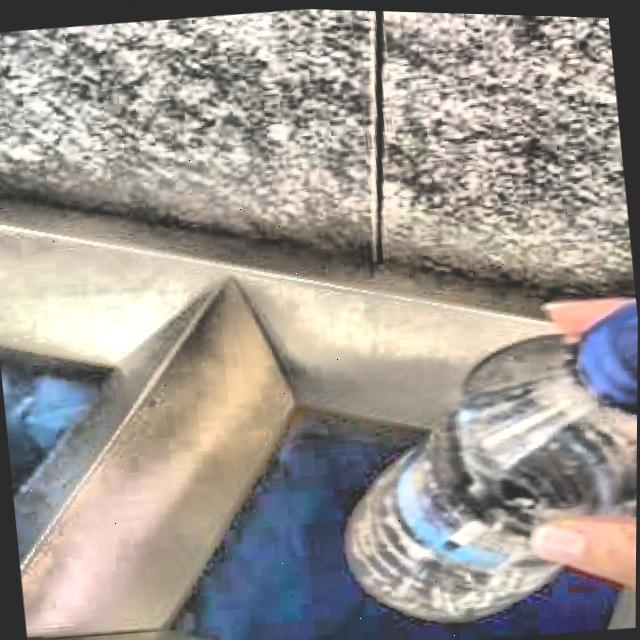plastic: (350, 298, 638, 620)
